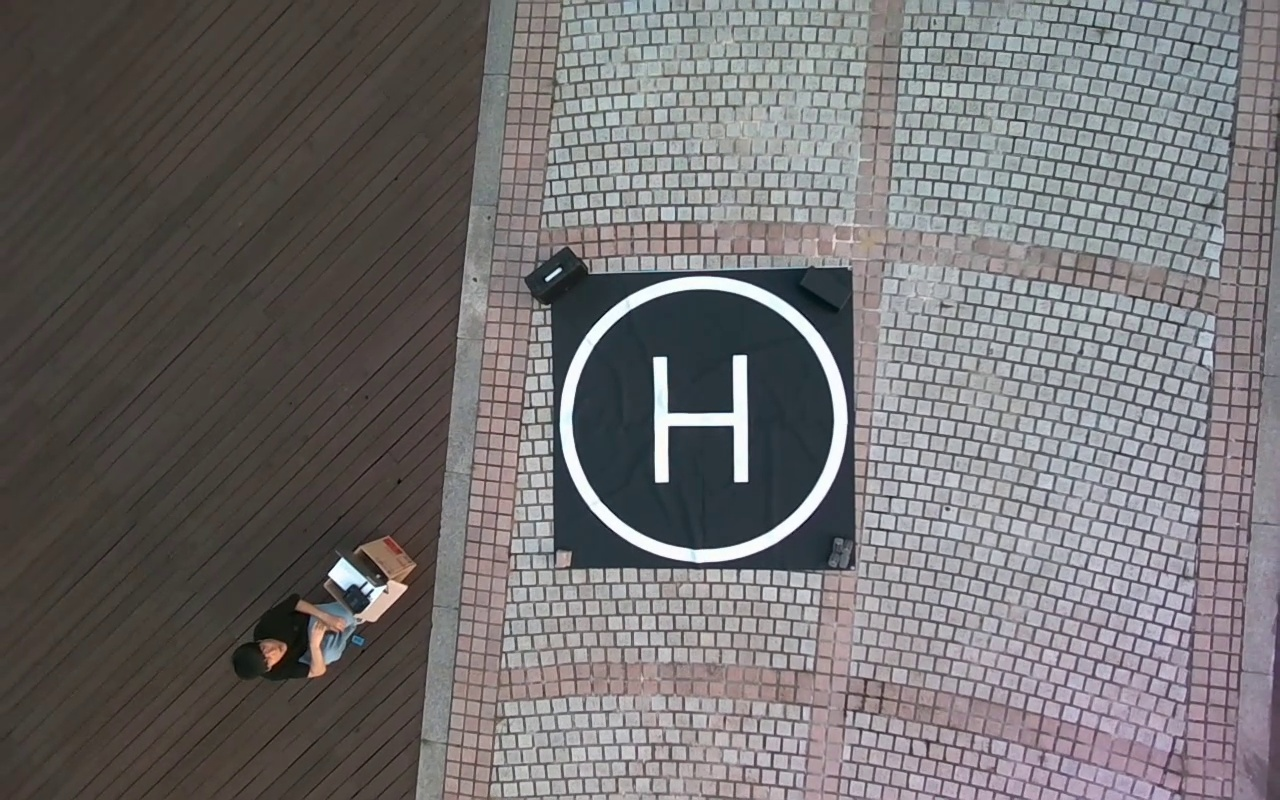H: (651, 355, 750, 484)
heliport: (563, 275, 848, 561)
